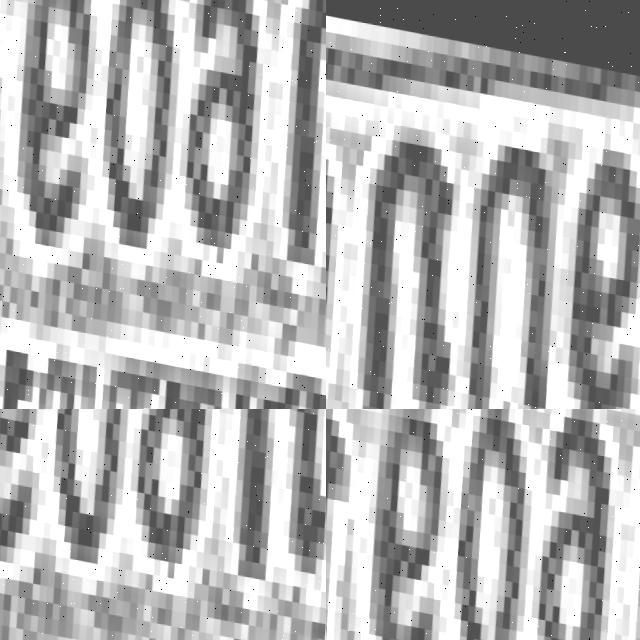license-plate: (0, 0, 326, 409), (0, 409, 326, 640), (326, 409, 640, 640)
